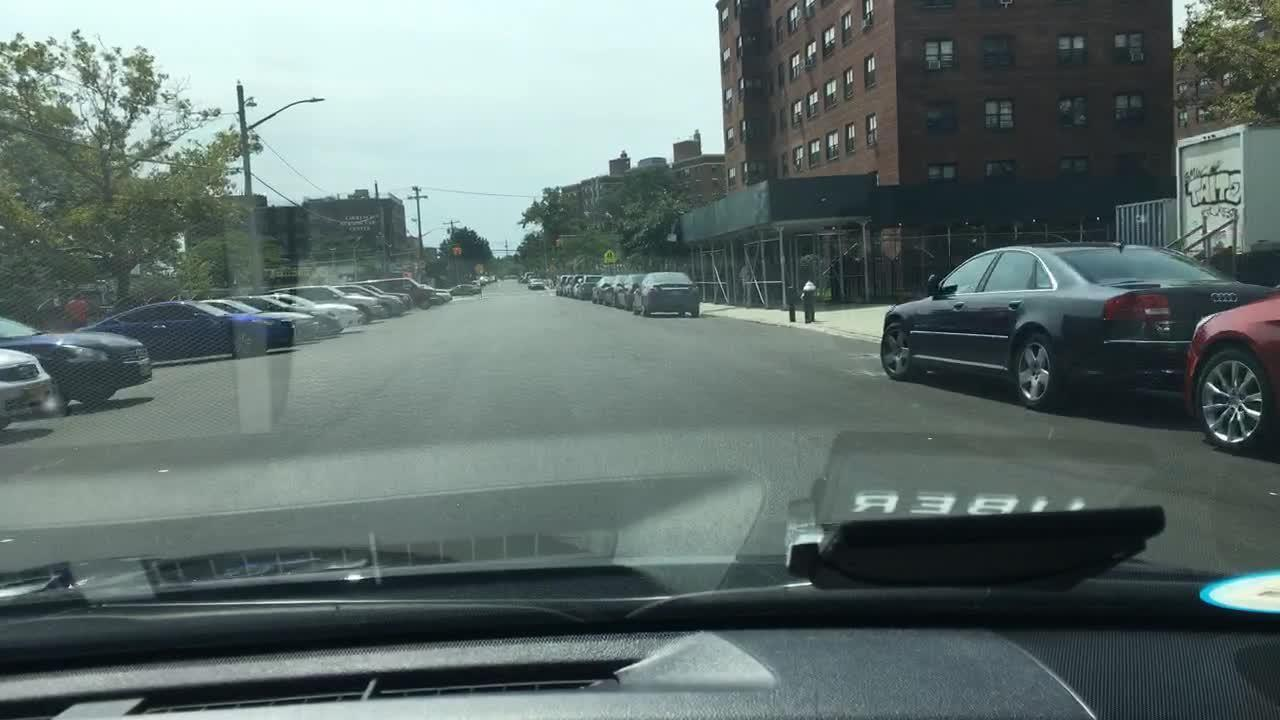Audi: (1202, 279, 1247, 309)
